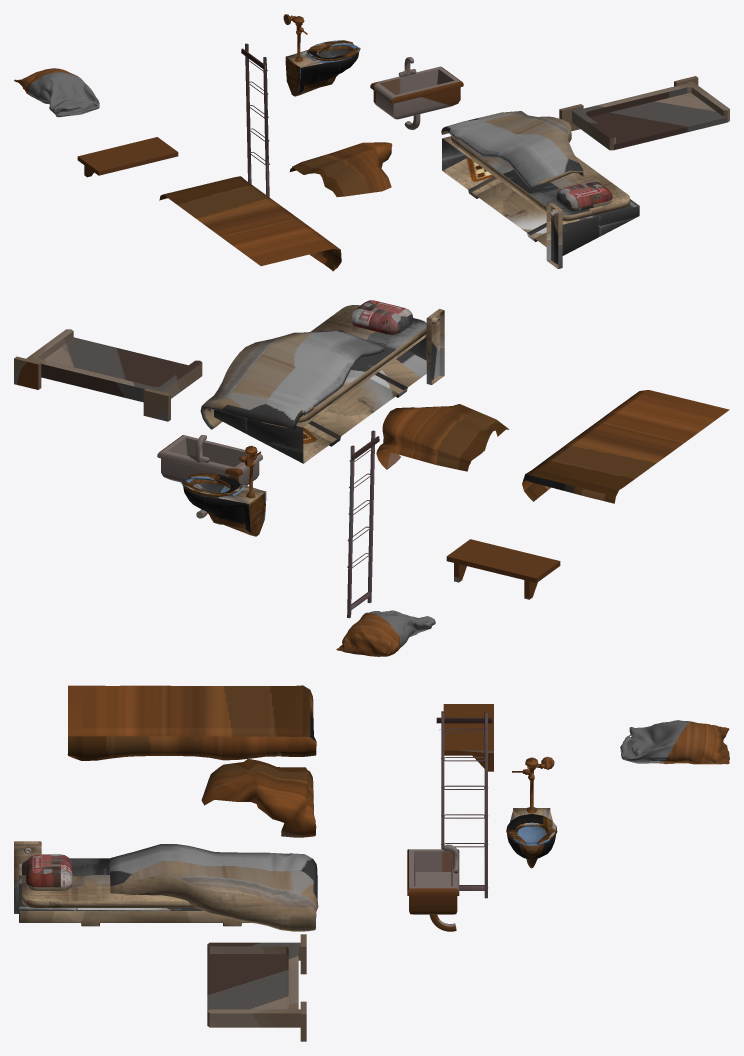
Rendered from CellProps1.fbx.
3 views of the same model, one above another, from view 1: azimuth 30°, elevation 25°; view 2: azimuth 150°, elevation 25°; view 3: azimuth 270°, elevation 25° (orthographic). The views are drawn at different scales.
Parts seen in each view (by area): view 1: Bed2, Bed1, Cube.006, Sink, Bed3, Toilet, Pillow, Shelf, Ladder; view 2: Bed2, Bed1, Cube.006, Bed3, Toilet, Sink, Shelf, Pillow, Ladder; view 3: Bed2, Bed1, Cube.006, Bed3, Pillow, Sink, Toilet, Ladder, Shelf.
Part boxes in pixels (x1,y1,x2,y2): Bed2: [441, 111, 639, 268]; Bed1: [159, 176, 341, 271]; Cube.006: [559, 76, 729, 150]; Sink: [370, 57, 463, 129]; Bed3: [289, 142, 392, 197]; Toilet: [283, 14, 360, 96]; Pillow: [14, 68, 99, 117]; Shelf: [77, 137, 178, 177]; Ladder: [241, 43, 269, 197]; Bed2: [200, 300, 444, 463]; Bed1: [522, 390, 729, 503]; Cube.006: [14, 329, 202, 421]; Bed3: [376, 404, 509, 471]; Toilet: [181, 445, 266, 536]; Sink: [157, 435, 262, 518]; Shelf: [446, 539, 560, 599]; Pillow: [336, 610, 435, 656]; Ladder: [347, 430, 379, 618]; Bed2: [14, 841, 318, 931]; Bed1: [67, 685, 316, 760]; Cube.006: [207, 934, 306, 1041]; Bed3: [201, 759, 316, 837]; Pillow: [620, 720, 729, 764]; Sink: [407, 844, 459, 931]; Toilet: [506, 756, 557, 868]; Ladder: [436, 711, 492, 898]; Shelf: [443, 704, 493, 771].
Bounding box in the file's own units: 10.33 × 2.79 × 9.86.
